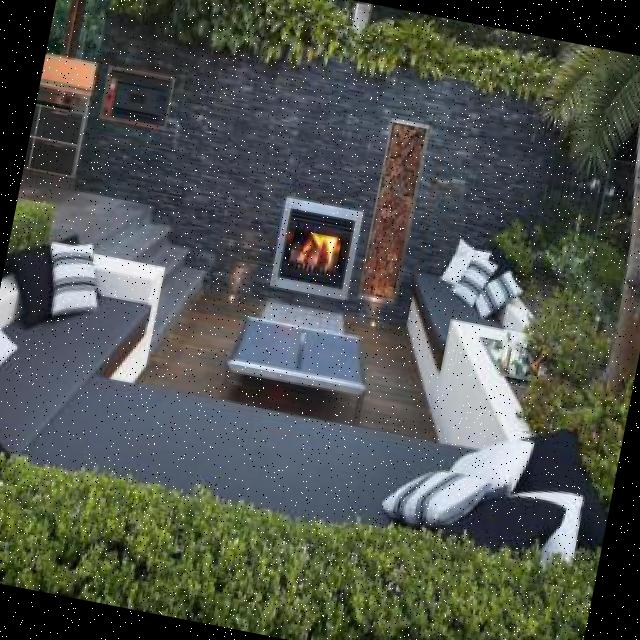fire: (286, 221, 344, 280)
